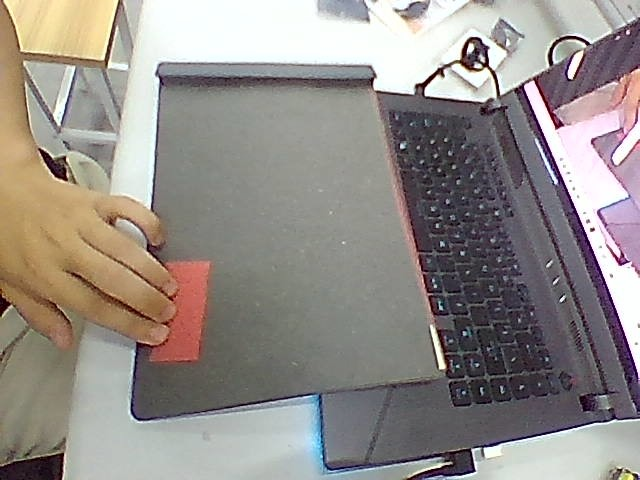card: (150, 261, 211, 362)
